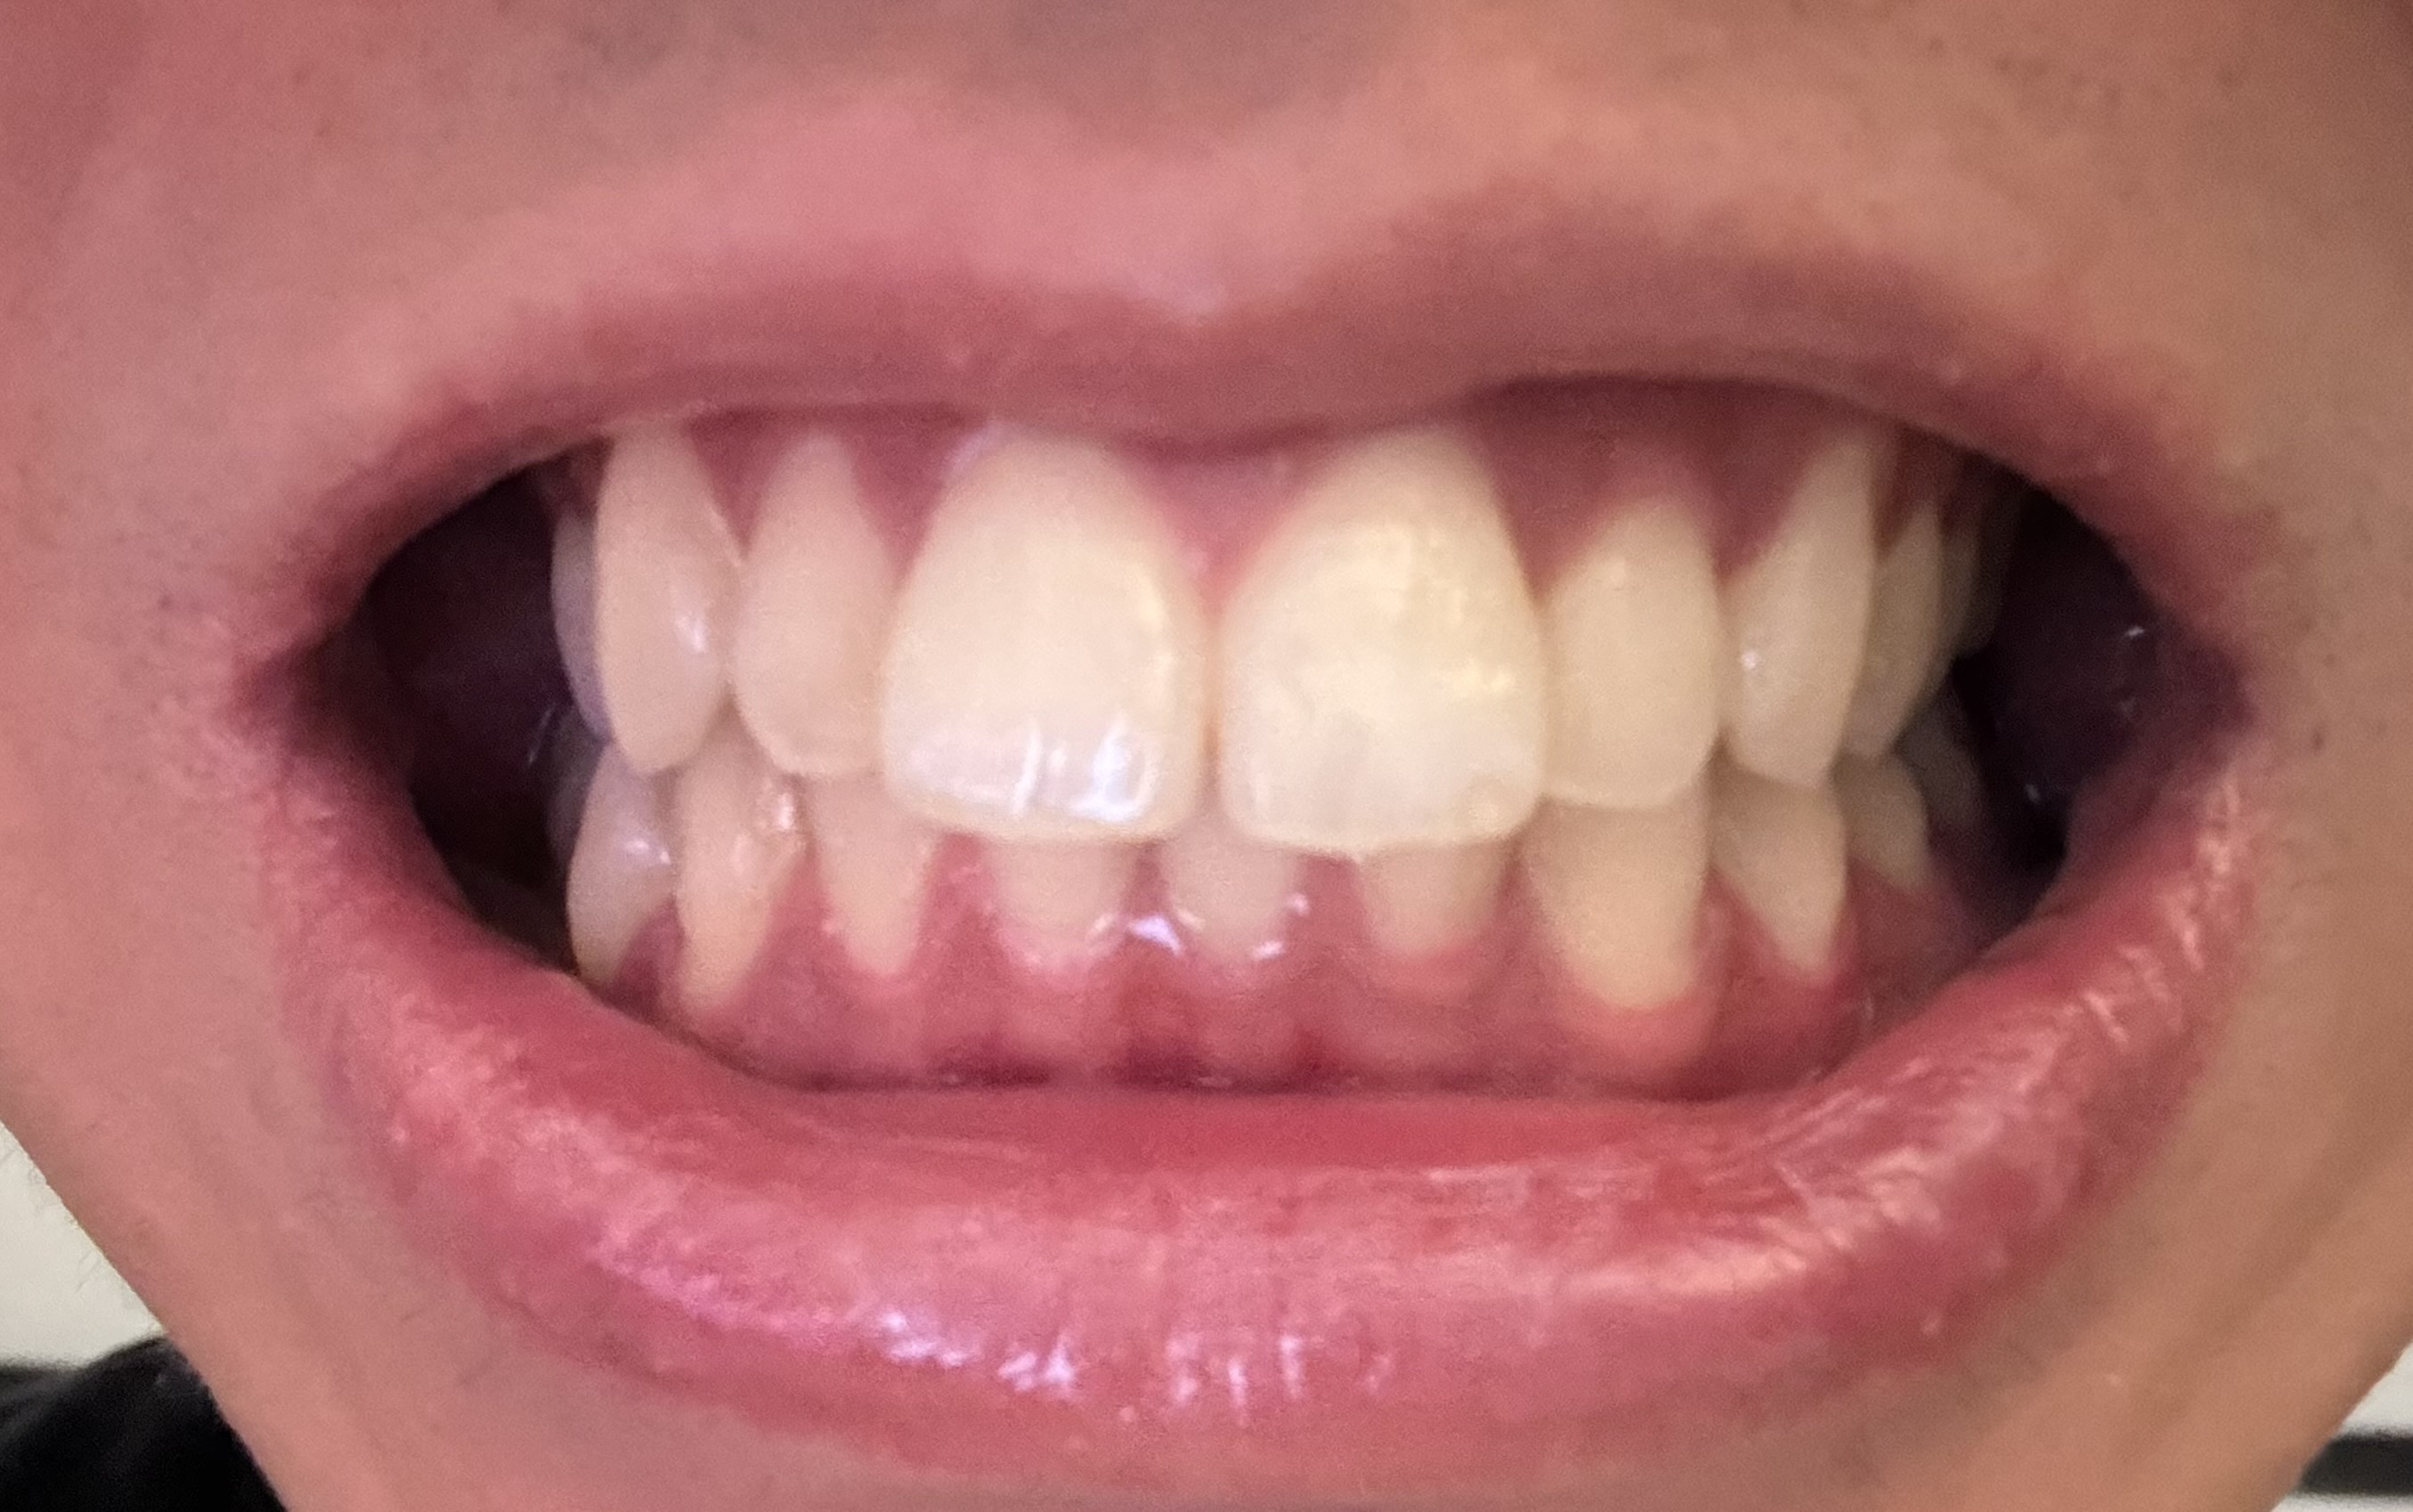teeth: (1281, 486, 1529, 840), (924, 488, 1172, 817), (620, 465, 726, 740), (1579, 542, 1704, 753), (1762, 489, 1858, 732), (757, 491, 850, 726), (702, 744, 770, 916), (1598, 817, 1690, 941), (1875, 573, 1932, 732), (1753, 803, 1832, 918), (841, 808, 917, 925), (991, 852, 1102, 930), (576, 803, 630, 923), (1198, 836, 1274, 918), (554, 545, 588, 704), (1845, 763, 1906, 850), (1403, 873, 1501, 923)
